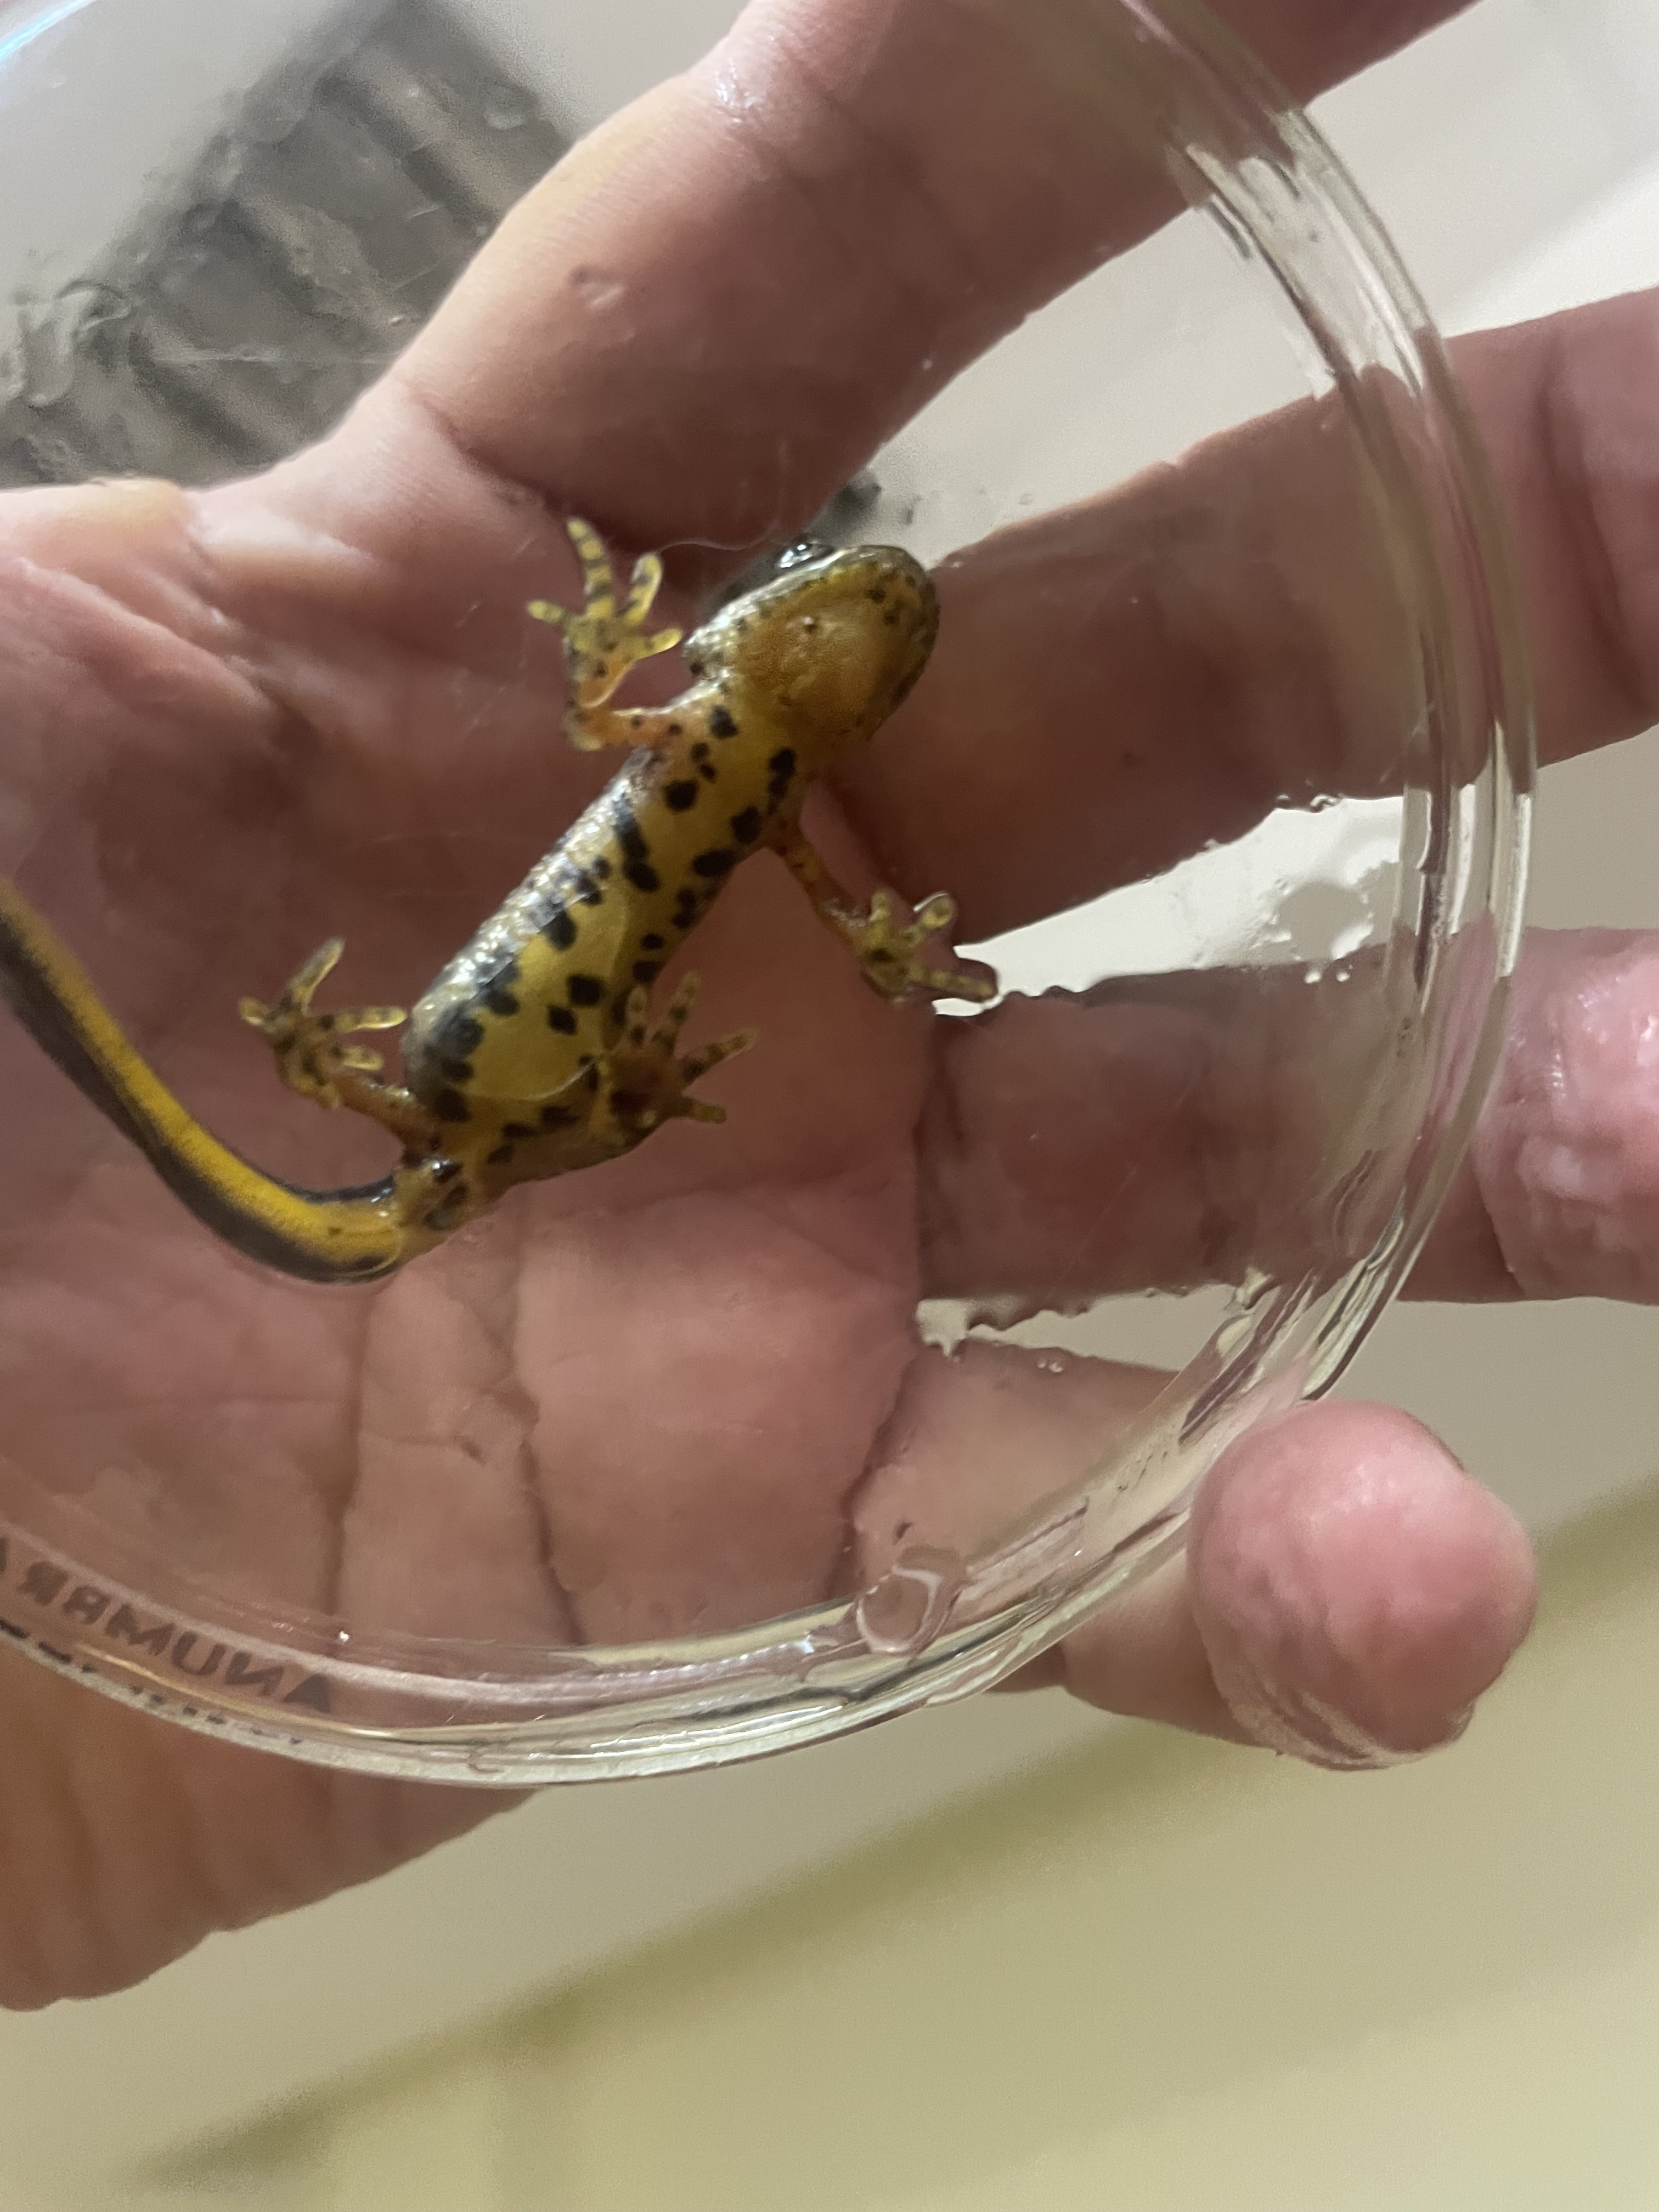Karelin_newt: (399, 749, 769, 1122)
